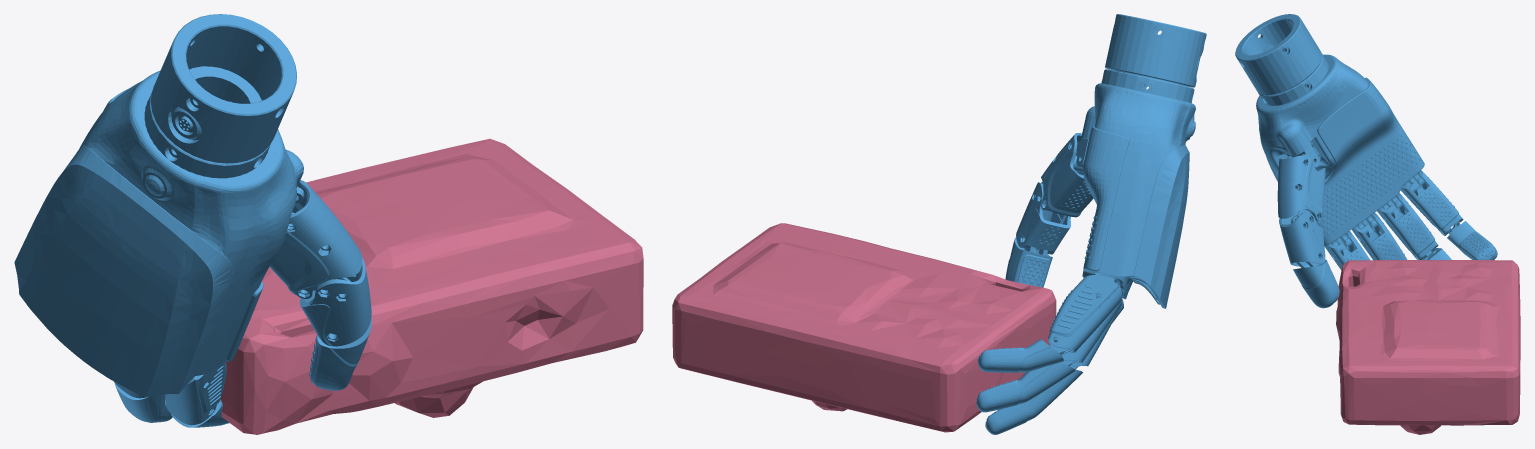
3 renders of one model, left to right at view 1: azimuth 30°, elevation 25°; view 2: azimuth 150°, elevation 25°; view 3: azimuth 270°, elevation 25°, orthographic. The views are drawn at different scales.
Visible parts, largest first — view 1: 6; view 2: 6; view 3: 6.
Part boxes in pixels (bbox=[...]): 6: bbox=[14, 14, 643, 434]; 6: bbox=[672, 14, 1206, 434]; 6: bbox=[1235, 14, 1520, 434].
Bounding box in the file's own units: 0.2594 × 0.2322 × 0.1894.
